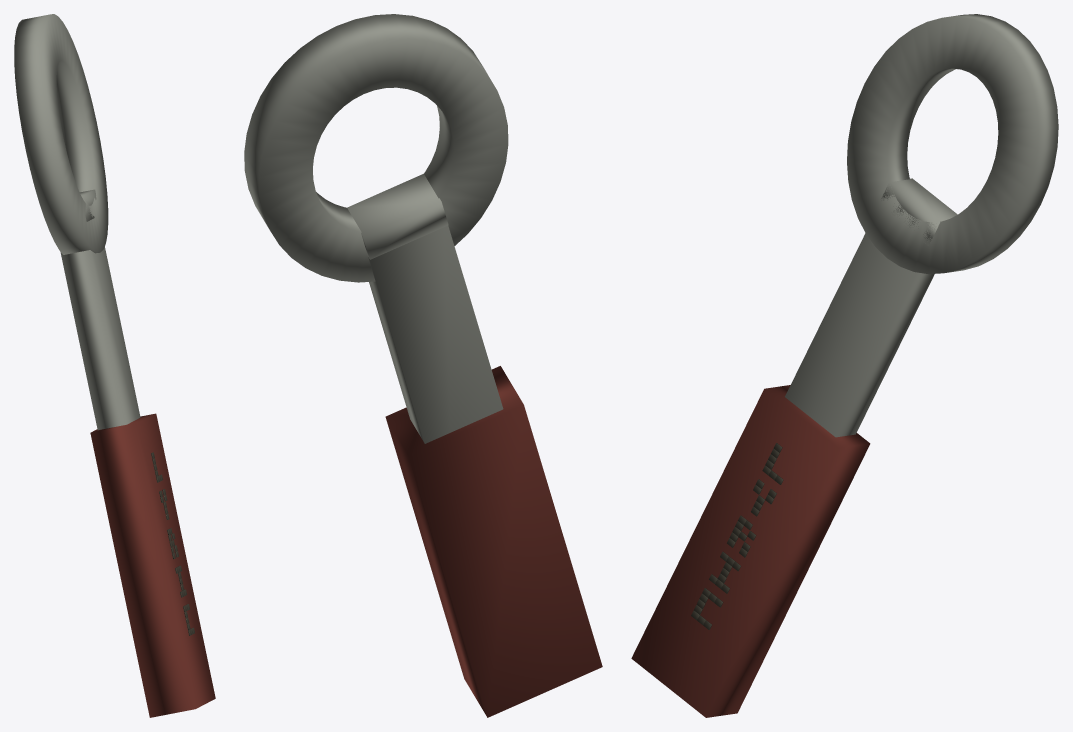
File: pub-opener.glb
3 renders of one model, left to right at view 1: azimuth 30°, elevation 25°; view 2: azimuth 150°, elevation 25°; view 3: azimuth 270°, elevation 25°, orthographic. The views are drawn at different scales.
Parts seen in each view (by area): view 1: pub_bottle_opener; view 2: pub_bottle_opener; view 3: pub_bottle_opener.
Boxes of the visible parts, left/top/right/bottom form: pub_bottle_opener: left=14, top=14, right=215, bottom=717; pub_bottle_opener: left=244, top=14, right=602, bottom=717; pub_bottle_opener: left=631, top=14, right=1058, bottom=717.
Size of the model in its own units: 0.035 by 0.155 by 0.0878.
